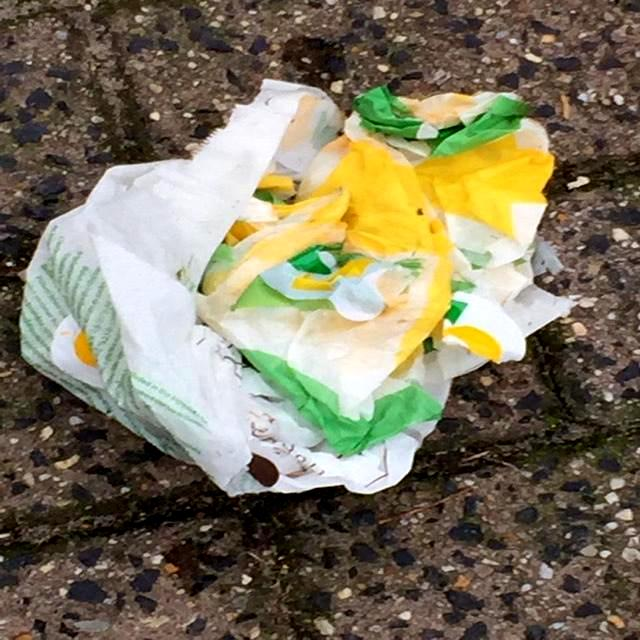Paper: (13, 76, 580, 502)
